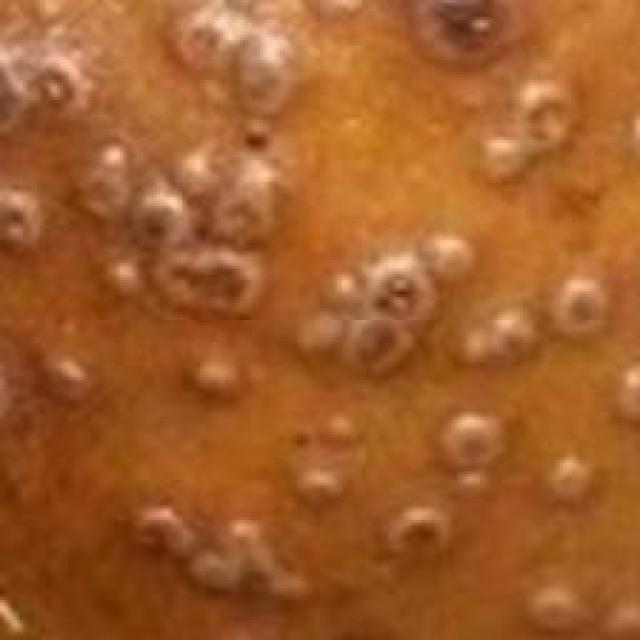monkeypox: (29, 37, 628, 640)
